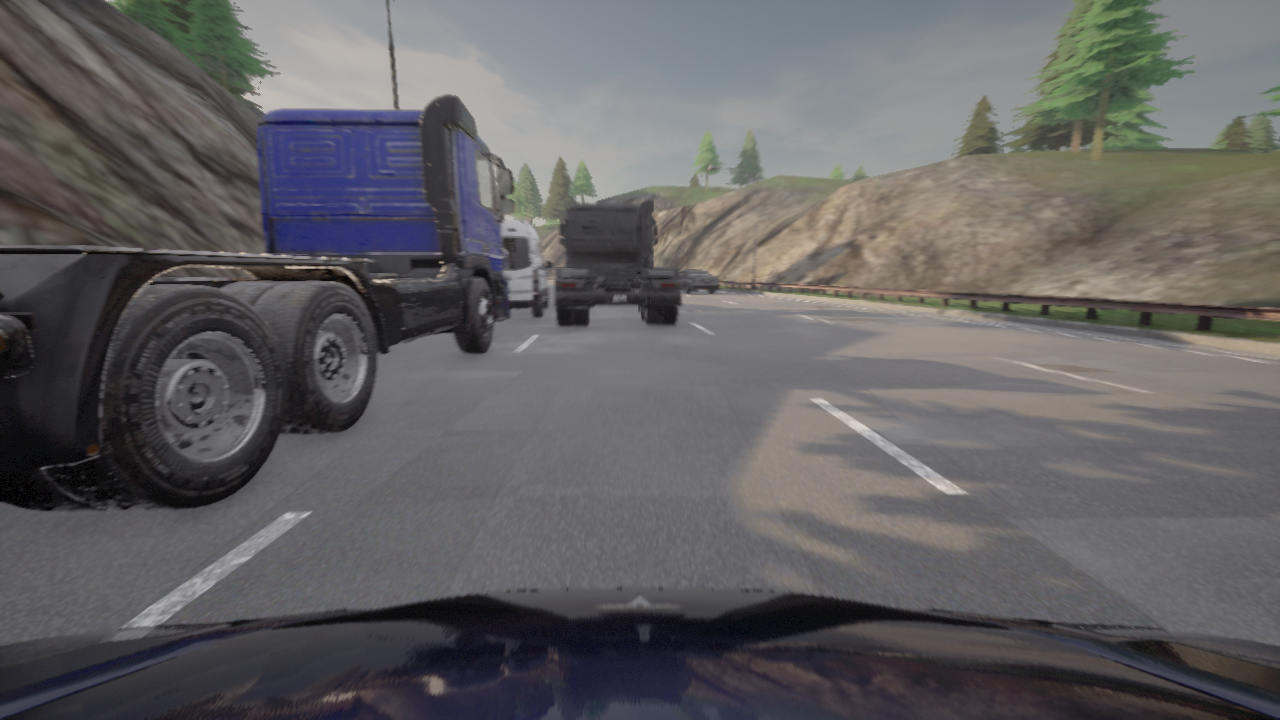cyclist: (0, 95, 514, 511), (0, 588, 1279, 719), (555, 200, 680, 325), (501, 220, 551, 316), (680, 270, 719, 292)
